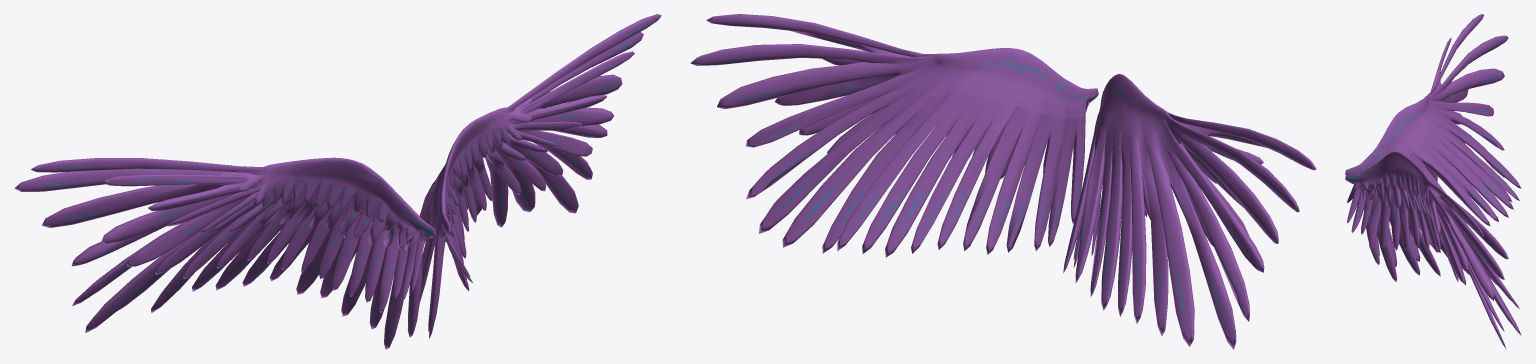
The model's file is faewings.glb.
The picture shows the model from 3 angles, left to right: view 1: azimuth 30°, elevation 25°; view 2: azimuth 150°, elevation 25°; view 3: azimuth 270°, elevation 25°; orthographic projection. The views are drawn at different scales.
Parts seen in each view (by area): view 1: faewings_0; view 2: faewings_0; view 3: faewings_0.
Part boxes in pixels (box(x1,y1,x2,y2)): faewings_0: box(14, 14, 661, 349); faewings_0: box(690, 14, 1316, 349); faewings_0: box(1345, 14, 1521, 349).
Size of the model in its own units: 1.8 by 0.5869 by 0.6063.
Materials: 1 (1 with a texture image).
